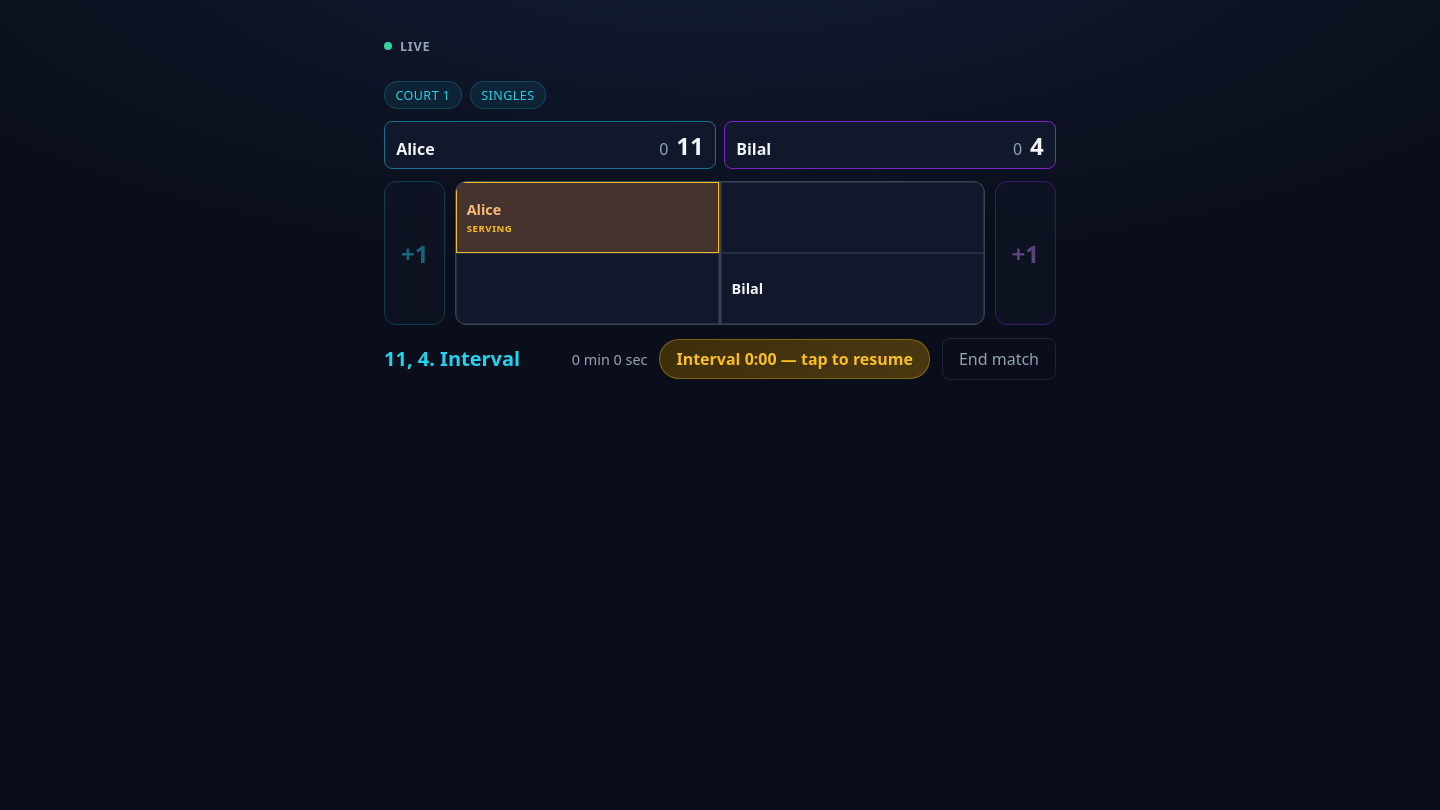
Scenario: UmpireScreen › scoring › says the interval is over once the clock has run out
Click the button "Interval 0:00 — tap to resume" at x=795, y=359, box x1=659 y1=339 x2=930 y2=379
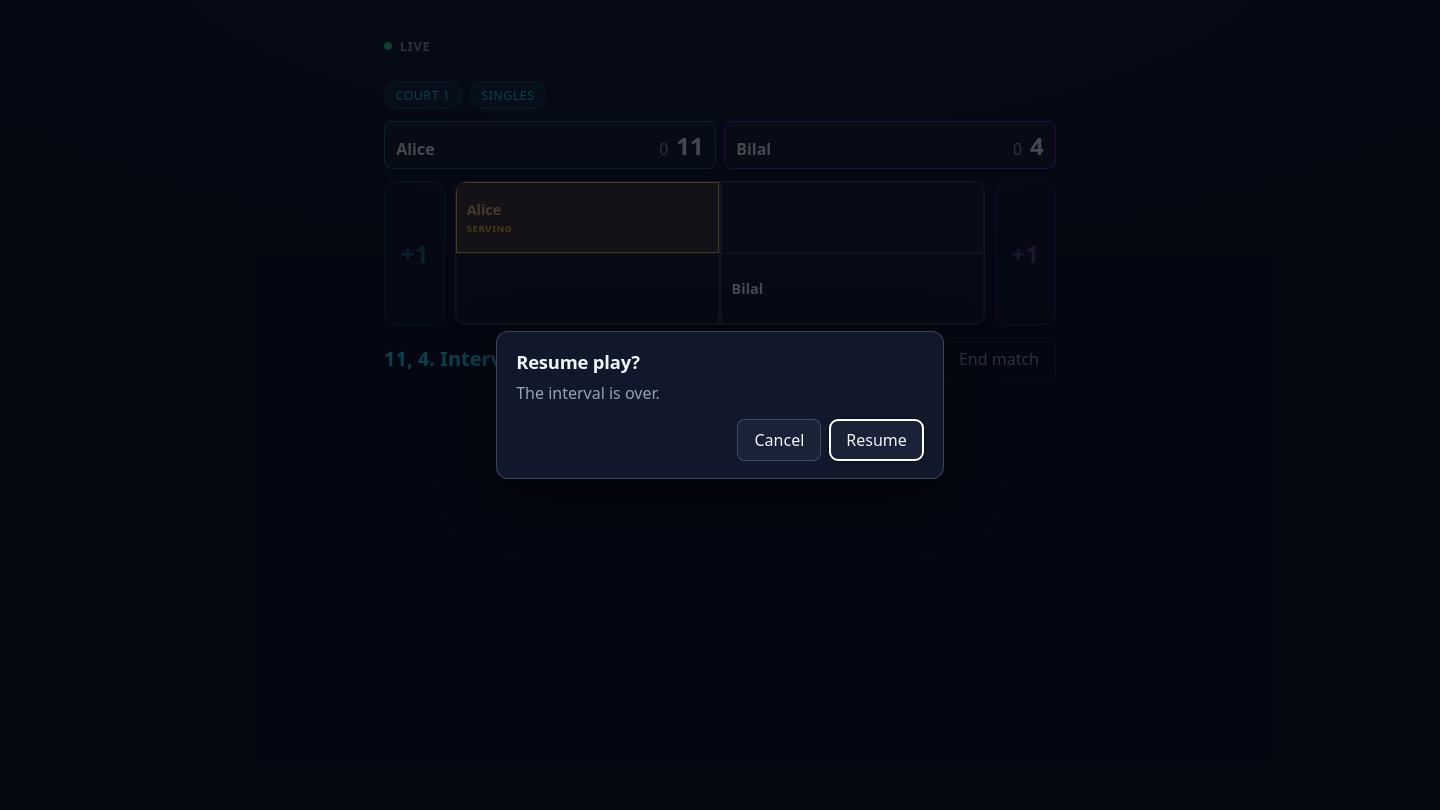
Expected: the text "The interval is over." is shown, x1=516 y1=382 x2=660 y2=404
